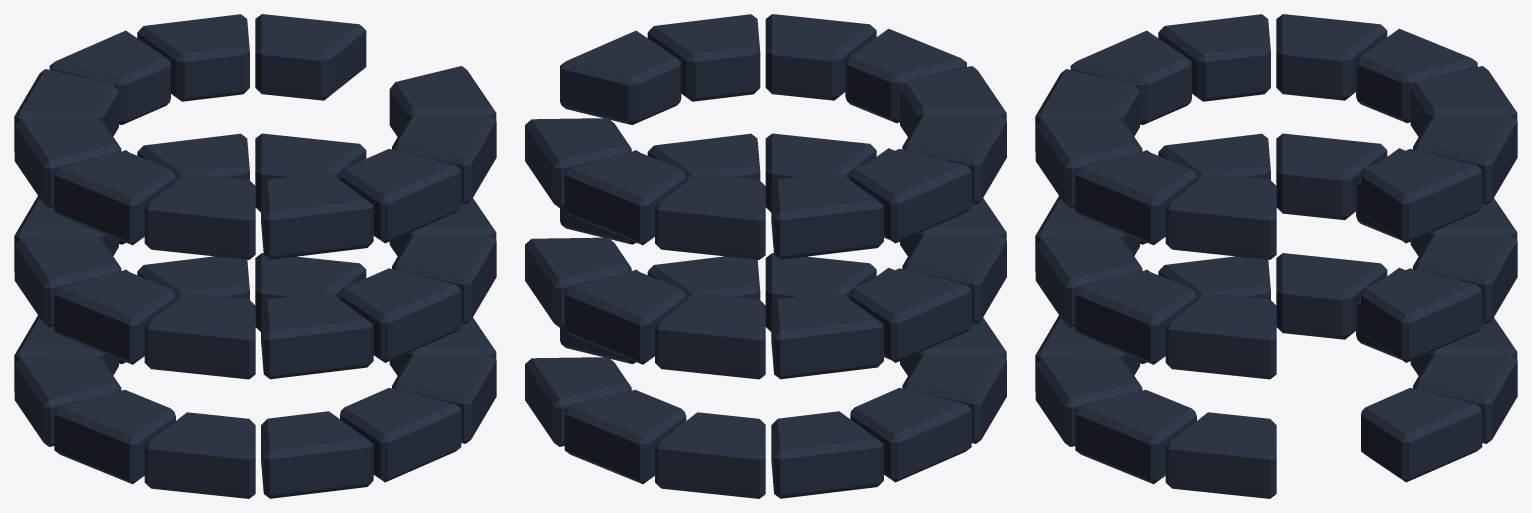
File: symbol-database.glb
3 views of the same model, side by side, from view 1: azimuth 30°, elevation 25°; view 2: azimuth 150°, elevation 25°; view 3: azimuth 270°, elevation 25° (orthographic).
Visible parts, largest first — view 1: symbol-database_SystemMaterial; view 2: symbol-database_SystemMaterial; view 3: symbol-database_SystemMaterial.
Boxes of the visible parts, x1,y1,x2,y2 form: symbol-database_SystemMaterial: (14, 14, 496, 498); symbol-database_SystemMaterial: (525, 14, 1006, 498); symbol-database_SystemMaterial: (1035, 14, 1517, 498).
Size of the model in its own units: 0.9142 by 0.6 by 0.9142.
